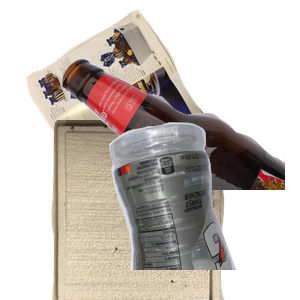glass: (60, 56, 300, 236)
paper: (24, 10, 235, 190)
plastic: (106, 120, 300, 300)
trash: (49, 120, 269, 300)
